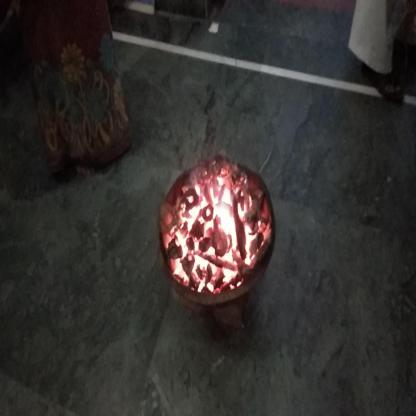fire: (163, 145, 264, 294)
